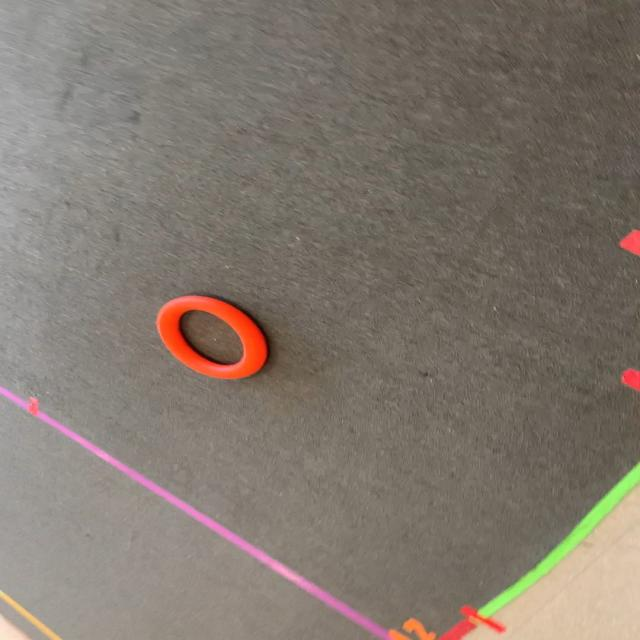notes: (155, 289, 275, 380)
